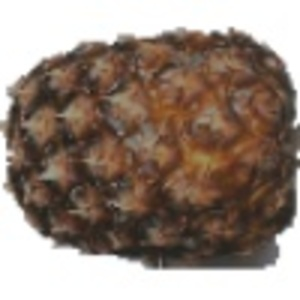abacaxi: (6, 21, 289, 258)
